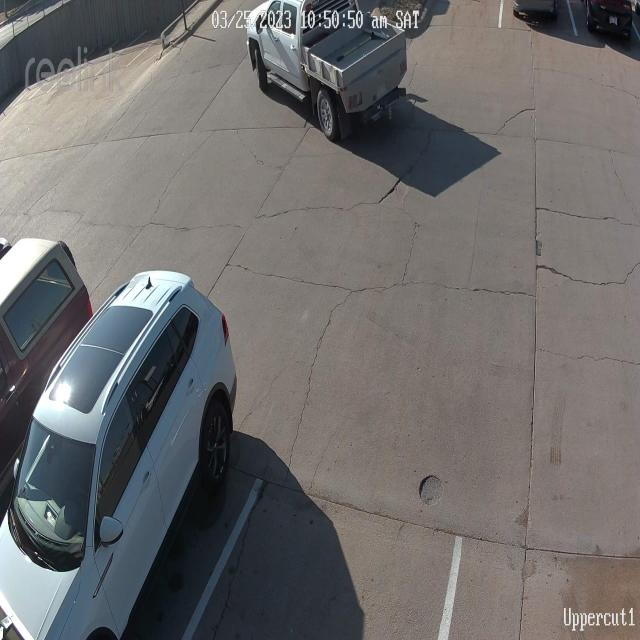Car: (246, 0, 434, 146)
Empty-slot: (186, 469, 468, 640), (436, 469, 640, 640), (410, 0, 504, 53)
Slot-Occupied: (0, 272, 236, 640), (0, 239, 94, 451), (584, 0, 638, 60), (517, 6, 560, 30)
